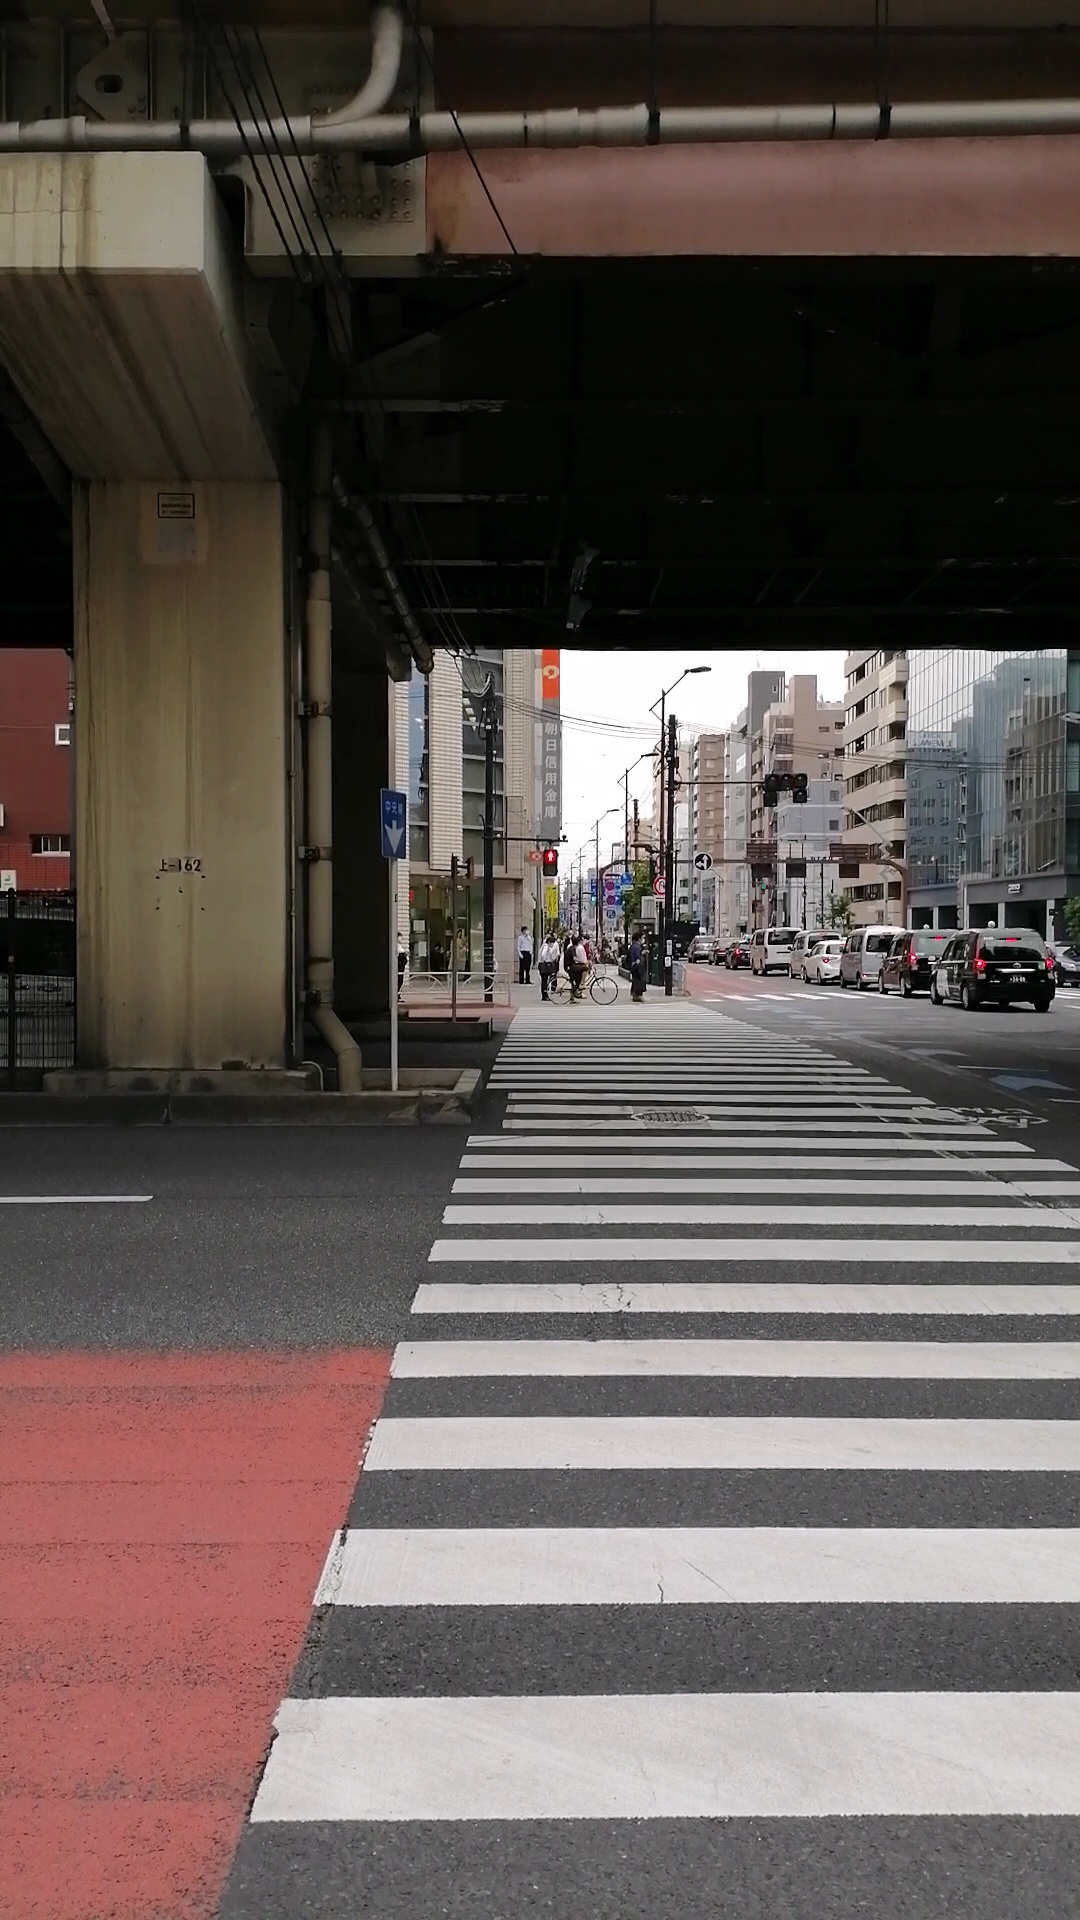red: (541, 849, 556, 876)
